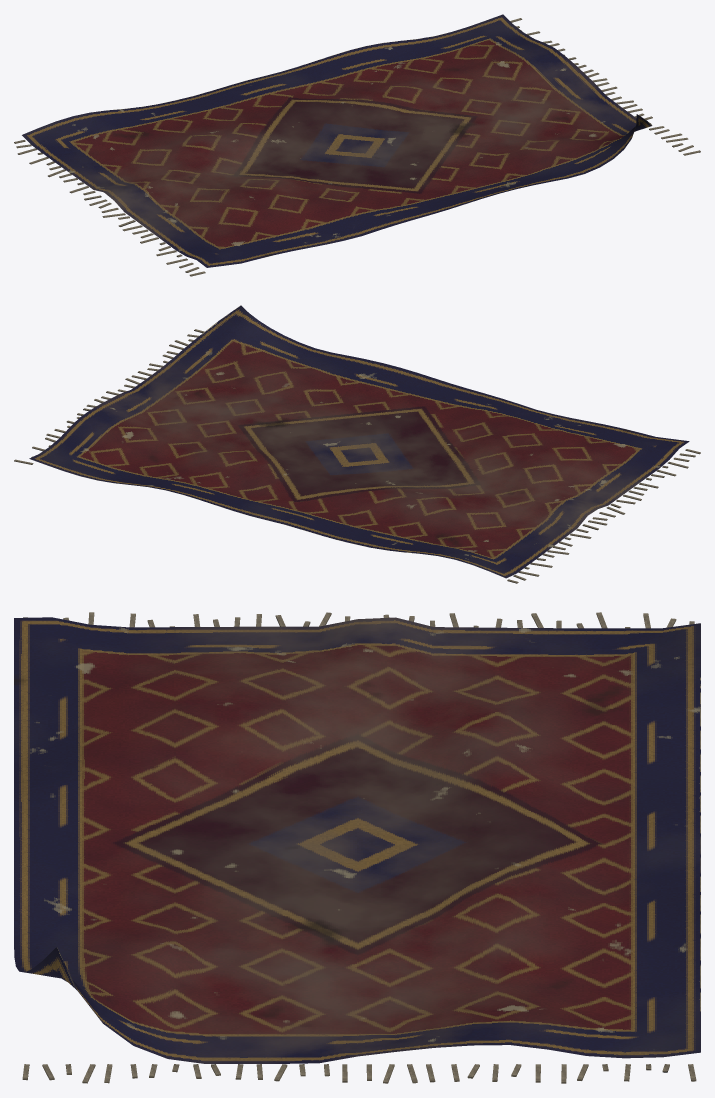
The model's file is carpet_rug.glb.
The picture shows the model from 3 angles, top to bottom: view 1: azimuth 30°, elevation 25°; view 2: azimuth 150°, elevation 25°; view 3: azimuth 270°, elevation 25°; orthographic projection. The views are drawn at different scales.
Visible parts, largest first — view 1: CarpetRug; view 2: CarpetRug; view 3: CarpetRug.
Part boxes in pixels (<box>): CarpetRug: <box>14,14,700,276</box>; CarpetRug: <box>14,305,700,583</box>; CarpetRug: <box>14,612,700,1083</box>.
Bounding box in the file's own units: 2.59 × 0.2148 × 1.6.
Materials: 1 (1 with a texture image).
